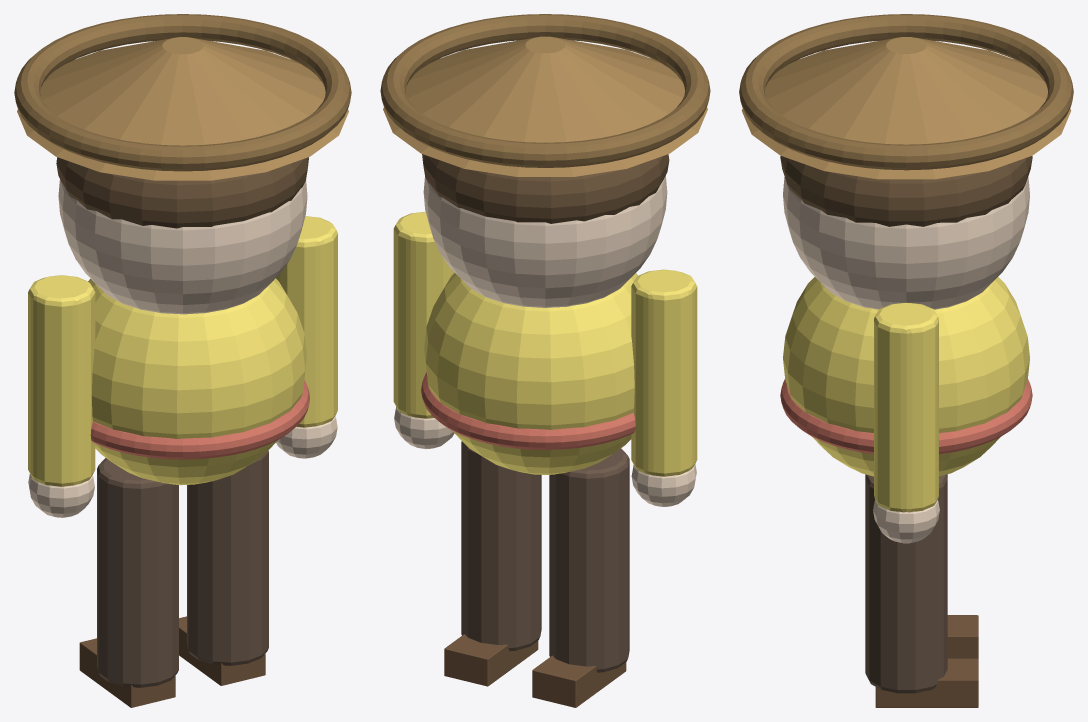
The model's file is chibi_yellow.glb.
The picture shows the model from 3 angles, left to right: view 1: azimuth 30°, elevation 25°; view 2: azimuth 150°, elevation 25°; view 3: azimuth 270°, elevation 25°; orthographic projection. The views are drawn at different scales.
Visible parts, largest first — view 1: chibi_yellow; view 2: chibi_yellow; view 3: chibi_yellow.
Boxes of the visible parts, box(x1,y1,x2,y2) form: chibi_yellow: box(14, 14, 351, 707); chibi_yellow: box(380, 14, 710, 707); chibi_yellow: box(739, 14, 1073, 707).
Bounding box in the file's own units: 0.6667 × 1.35 × 0.65.
